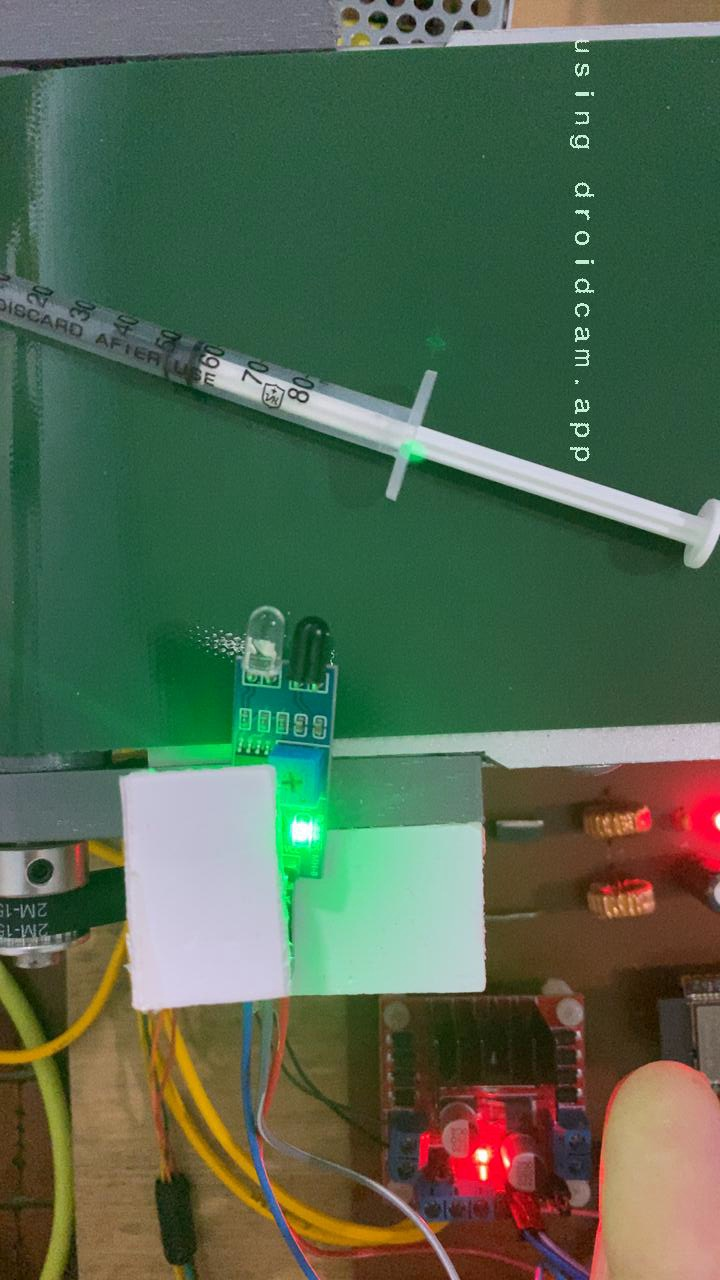syringe: (191, 346, 720, 576)
